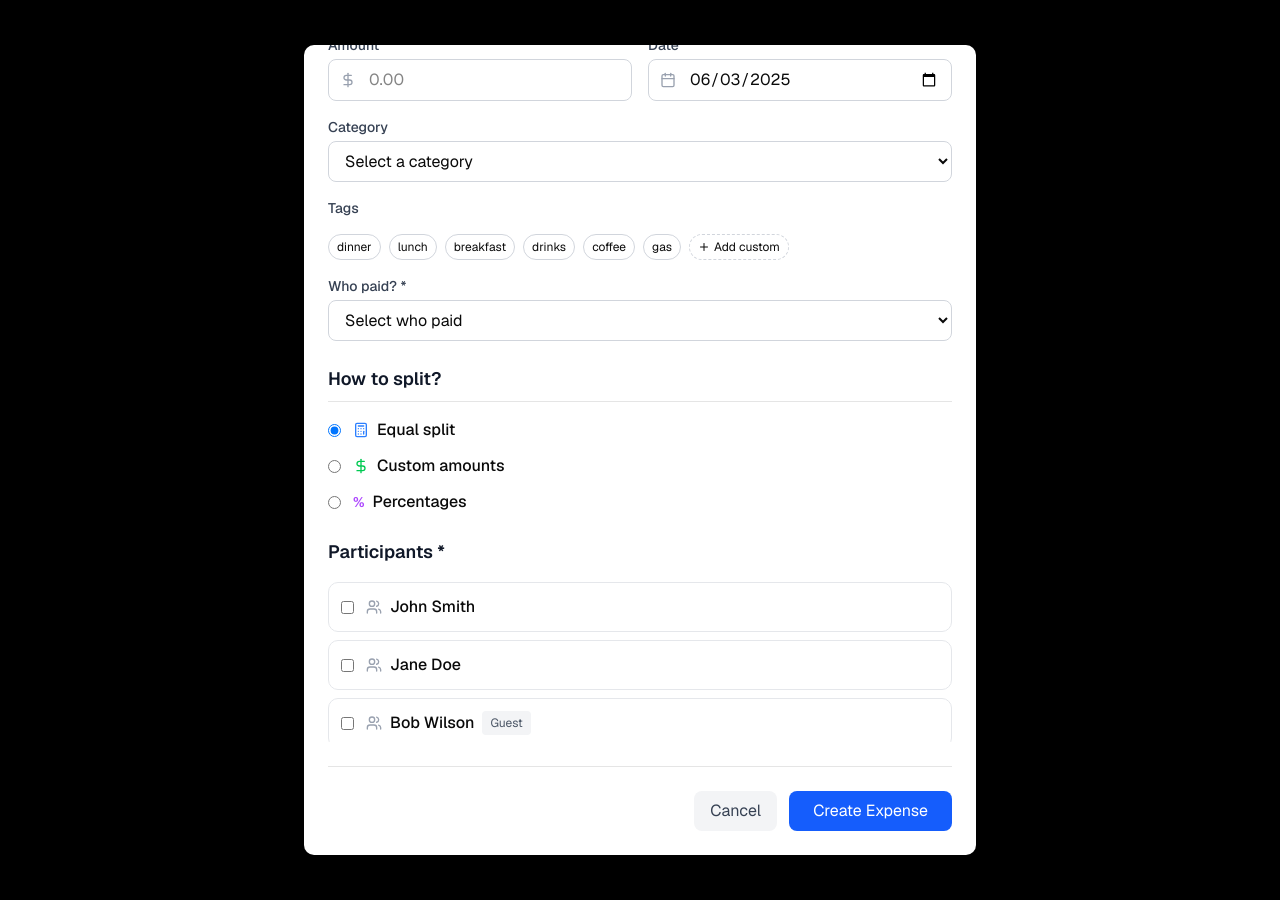
Test case: ManualExpenseForm › Form Validation › should show validation errors for required fields
This screenshot has width=1280, height=900.
(page scrolled)
Try to submit without filling required fields
Click the button "Create Expense".
click(871, 811)  # box [789,791,952,831]
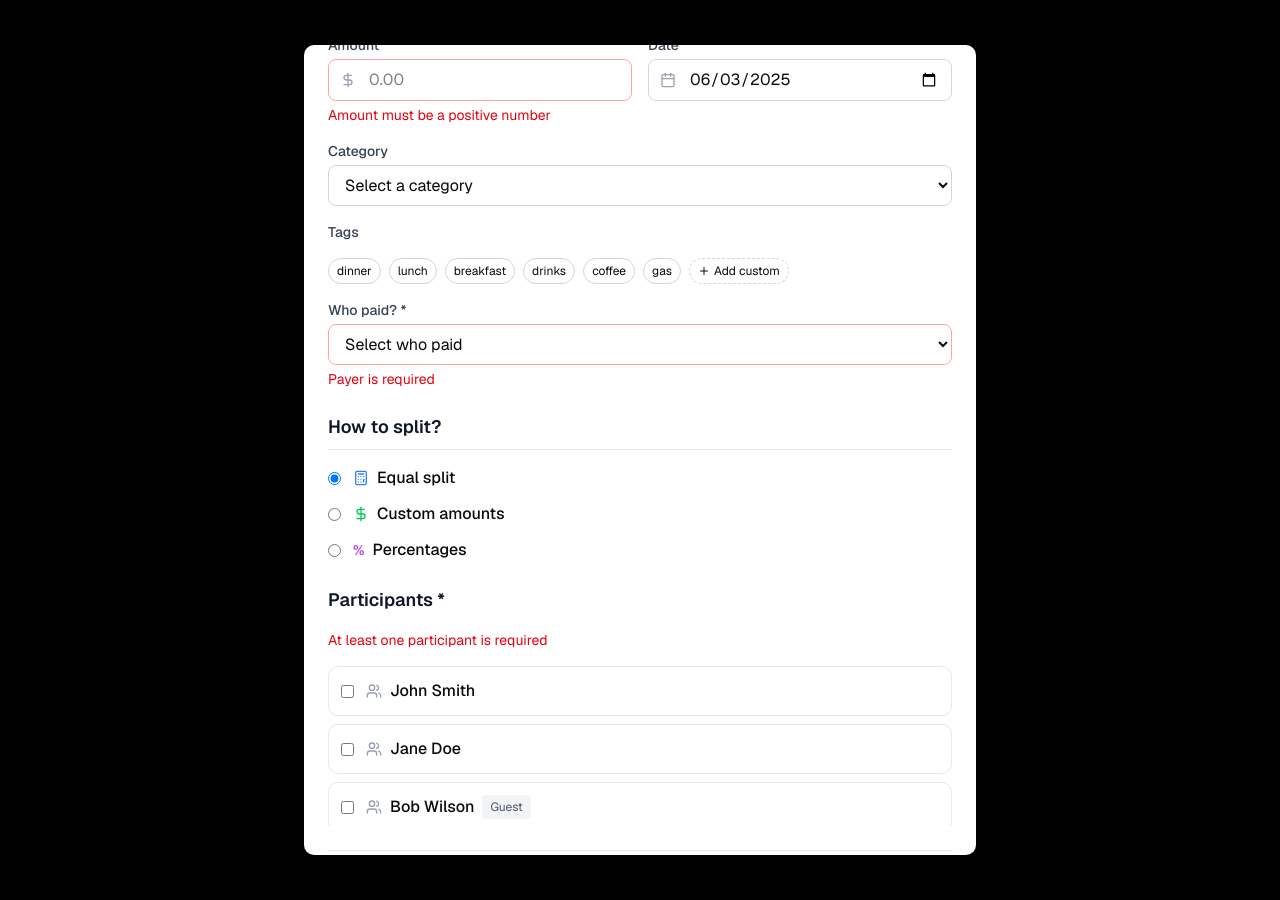
Check: the text "Amount must be a positive number" is shown, box [328,106,551,124]
Check: the text "Payer is required" is shown, box [328,370,435,388]
Check: the text "At least one participant is required" is shown, box [328,631,548,649]
